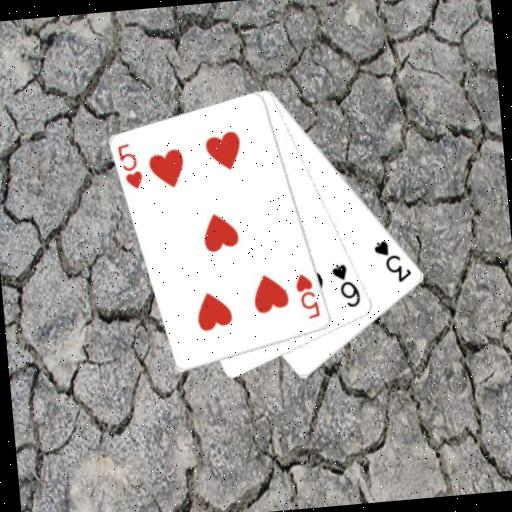3S: (370, 235, 415, 287)
5H: (292, 270, 323, 323), (114, 139, 145, 192)
6S: (328, 259, 364, 311)
